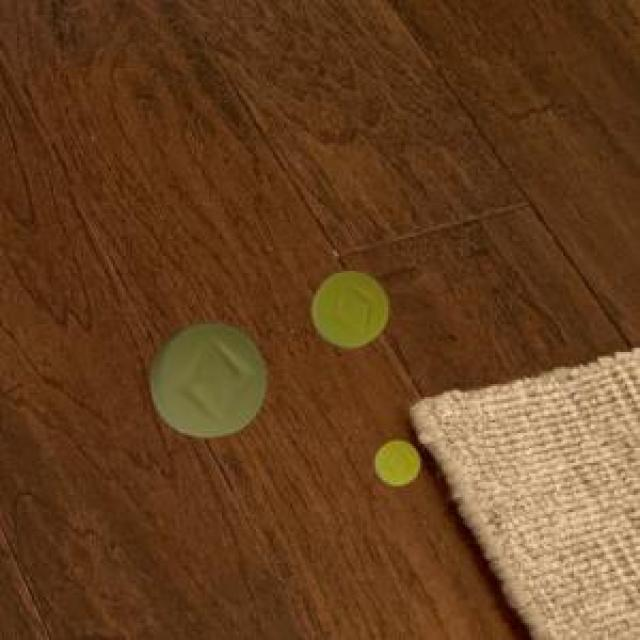Decolgen: (124, 315, 278, 453), (300, 256, 398, 366), (364, 431, 429, 492)
